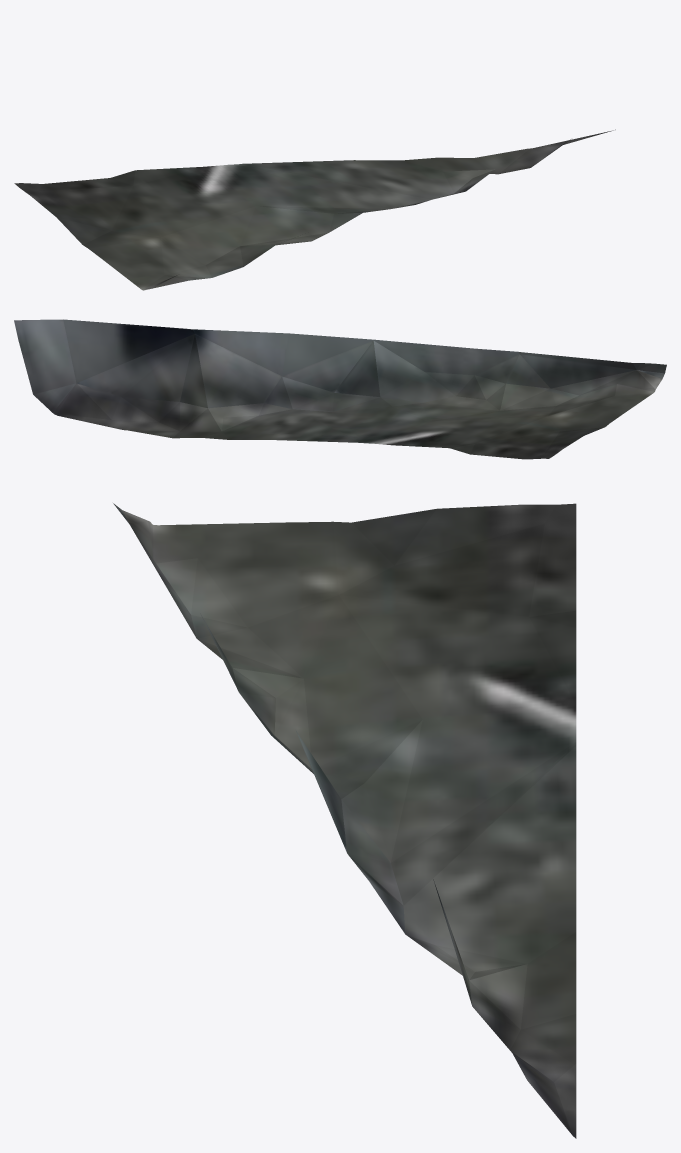
3 views of the same model, one above another, from view 1: azimuth 30°, elevation 25°; view 2: azimuth 150°, elevation 25°; view 3: azimuth 270°, elevation 25° (orthographic). The views are drawn at different scales.
Size of the model in its own units: 1.33 by 0.2004 by 0.5056.
1 material, 1 textured.
